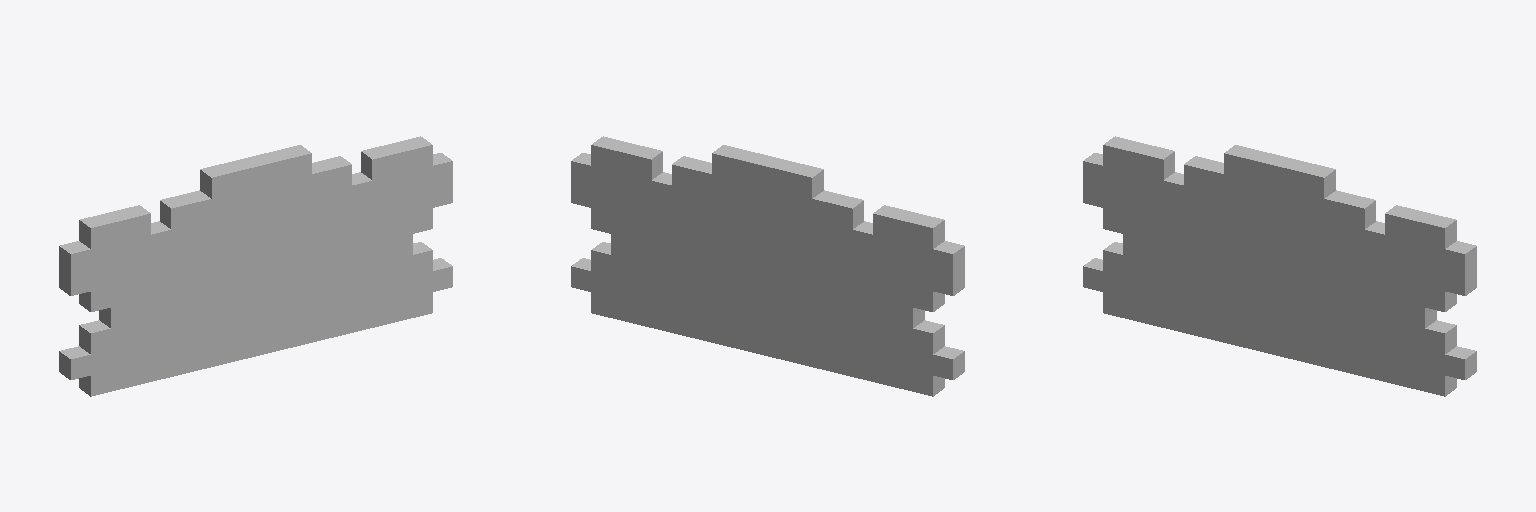
The model's file is миша смерт.obj.
3 views of the same model, side by side, from view 1: azimuth 30°, elevation 25°; view 2: azimuth 150°, elevation 25°; view 3: azimuth 330°, elevation 25° (orthographic).
Parts seen in each view (by area): view 1: object 1; view 2: object 1; view 3: object 1.
Boxes of the visible parts, <box> form: object 1: <box>59,136,452,396</box>; object 1: <box>571,136,964,396</box>; object 1: <box>1083,136,1476,396</box>.
Bounding box in the file's own units: 1.9 × 0.9 × 0.1.